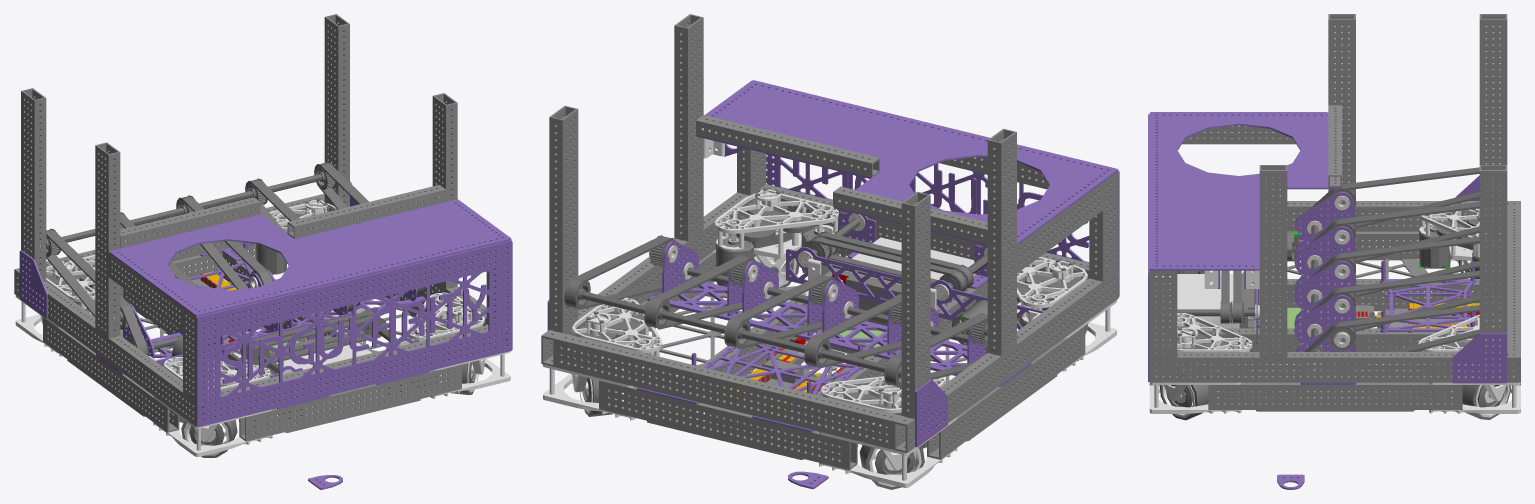
Rendered from orion-2026.glb.
The picture shows the model from 3 angles, left to right: view 1: azimuth 30°, elevation 25°; view 2: azimuth 150°, elevation 25°; view 3: azimuth 270°, elevation 25°; orthographic projection. The views are drawn at different scales.
Visible parts, largest first — view 1: Tube 2"x1"x15", CANcoder; view 2: Tube 2"x1"x15", CANcoder; view 3: Tube 2"x1"x15", CANcoder.
Part boxes in pixels (x1,y1,x2,y2): Tube 2"x1"x15": (14, 14, 512, 489); CANcoder: (57, 203, 468, 381); Tube 2"x1"x15": (541, 14, 1119, 489); CANcoder: (590, 193, 1069, 435); Tube 2"x1"x15": (1148, 14, 1520, 489); CANcoder: (1182, 209, 1486, 346).
Bounding box in the file's own units: 0.6921 × 0.753 × 0.689.
2 materials, 2 textured.
